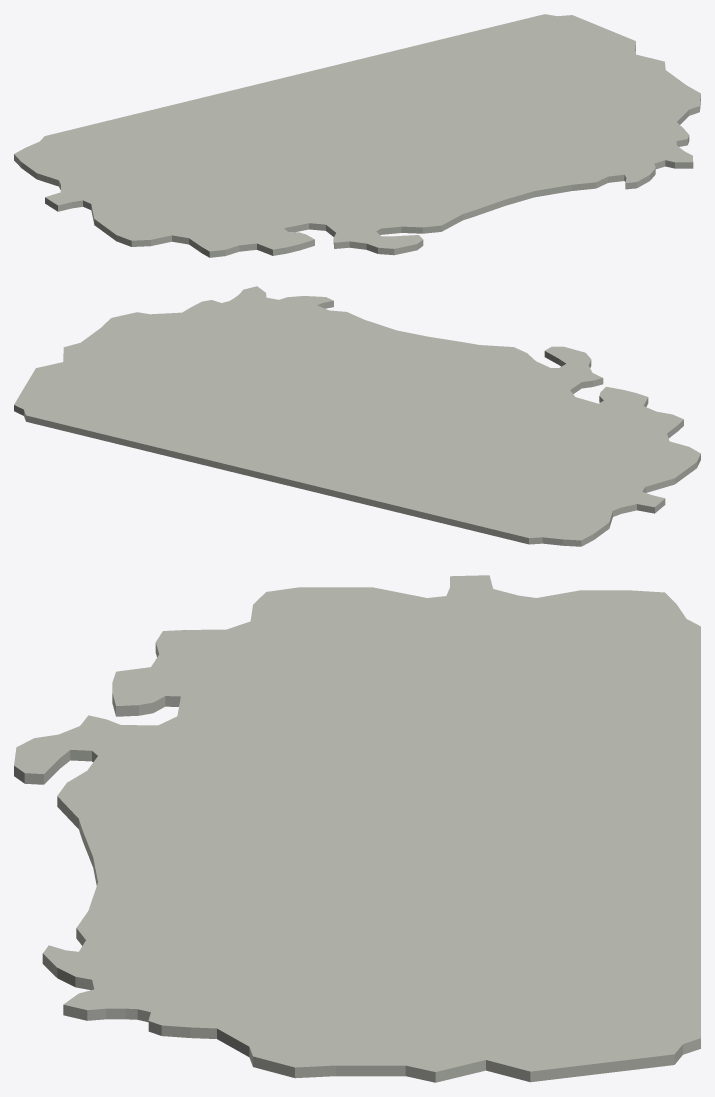
The model's file is islandNew4.glb.
The picture shows the model from 3 angles, top to bottom: view 1: azimuth 30°, elevation 25°; view 2: azimuth 150°, elevation 25°; view 3: azimuth 270°, elevation 25°; orthographic projection. The views are drawn at different scales.
Parts seen in each view (by area): view 1: islandNew4; view 2: islandNew4; view 3: islandNew4.
Part boxes in pixels (x1,y1,x2,y2): islandNew4: [14, 14, 700, 257]; islandNew4: [14, 286, 700, 546]; islandNew4: [14, 575, 700, 1082].
Bounding box in the file's own units: 48.9 × 0.4888 × 28.57.
Materials: 1 (1 with a texture image).
